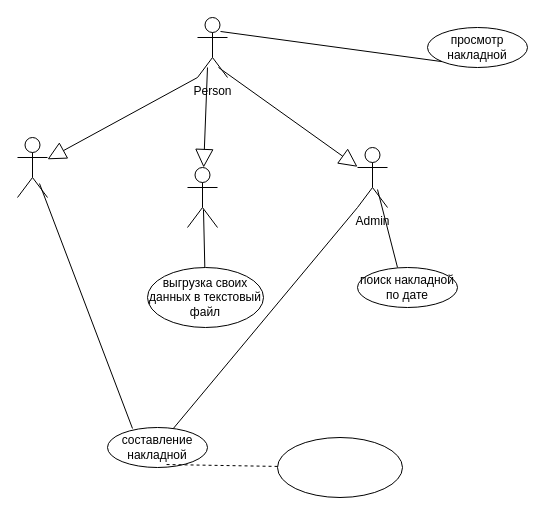
Image size: 545x515. Some labels were removed from this diagram. Each missing label, with the centre of its shape:
Seller: the point at 32,167
User: the point at 202,197
добавление новых товаров в накладную: the point at 339,467
